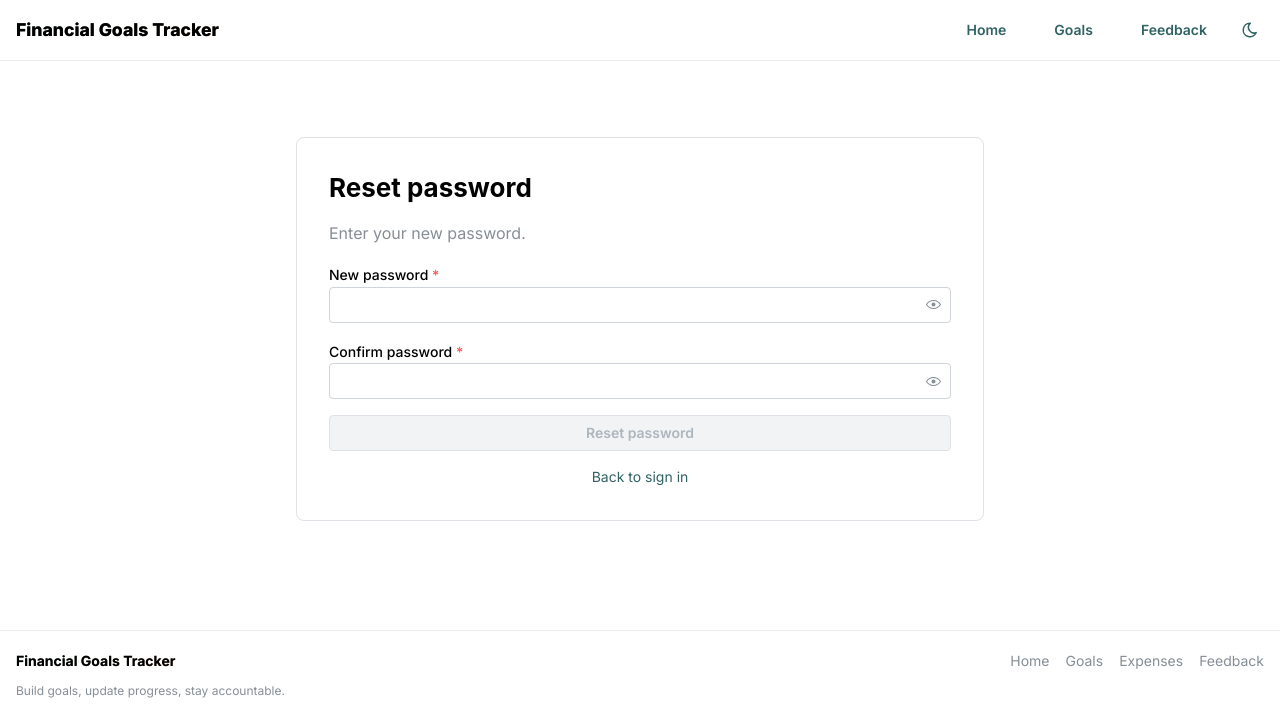
it: Reset Password Page › shows error when token is invalid or expired
This screenshot has width=1280, height=718.
In the password field labelled "New password *": (640, 305) [330,288,950,322], type "newpassword123"
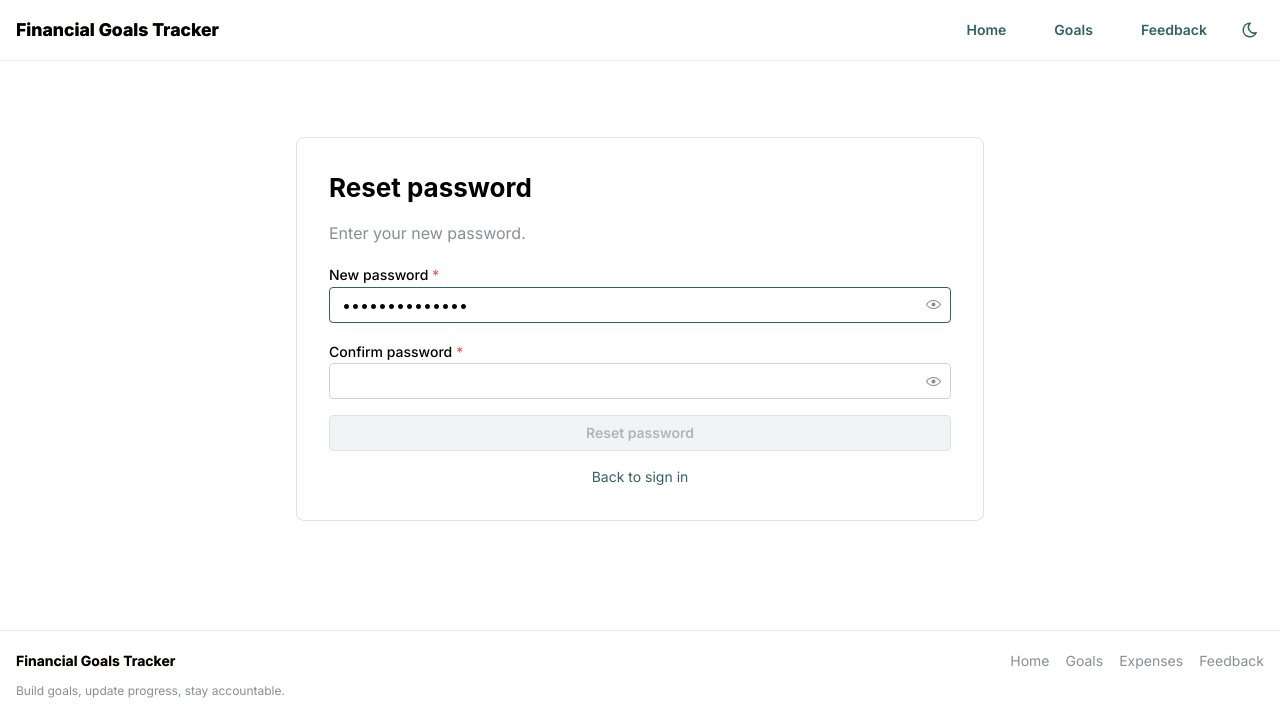
In the password field labelled "Confirm password *": (640, 382) [330,365,950,399], type "newpassword123"
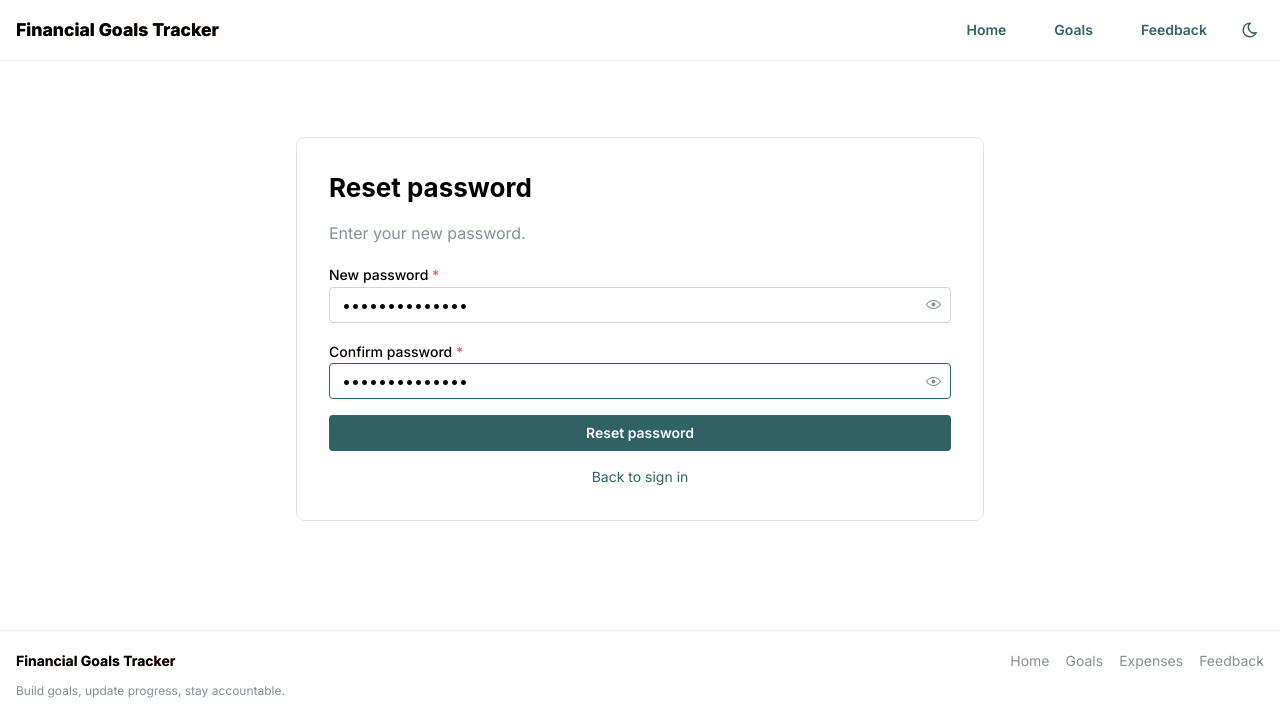
Click the button "Reset password": (640, 434) [329,416,951,452]
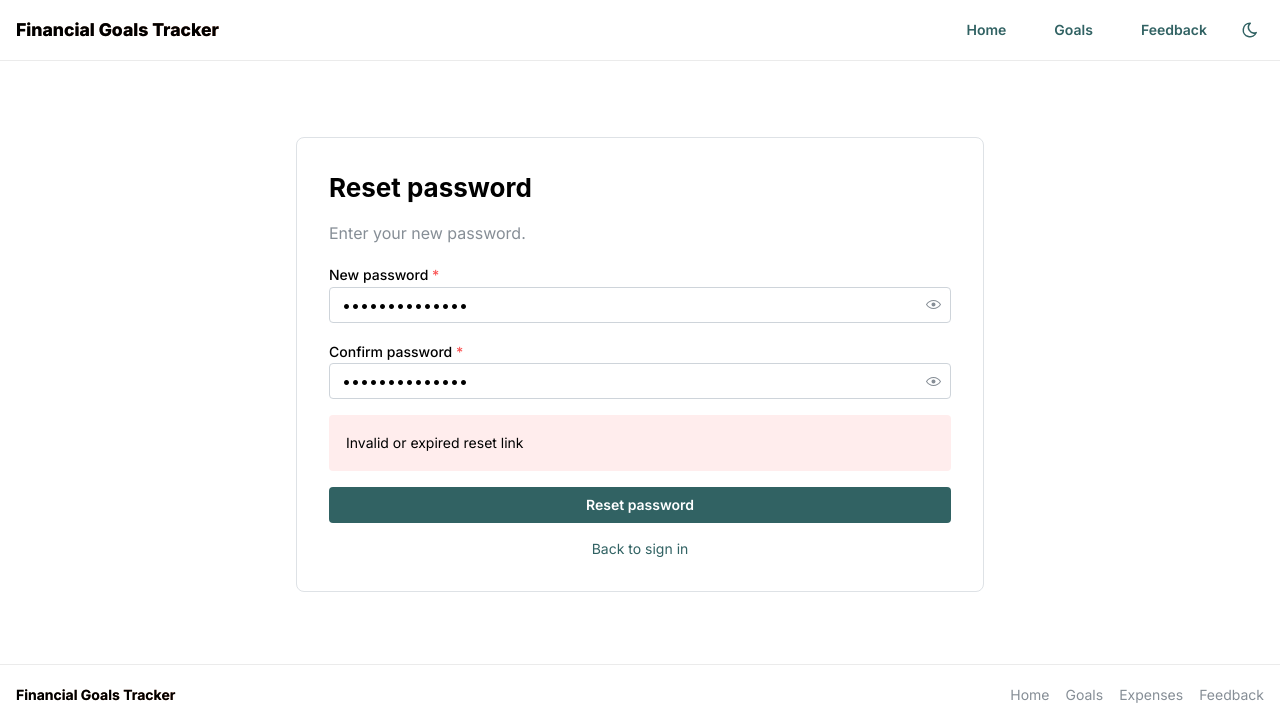
Now the text "Invalid or expired reset link" is shown, box [346,434,524,452]
